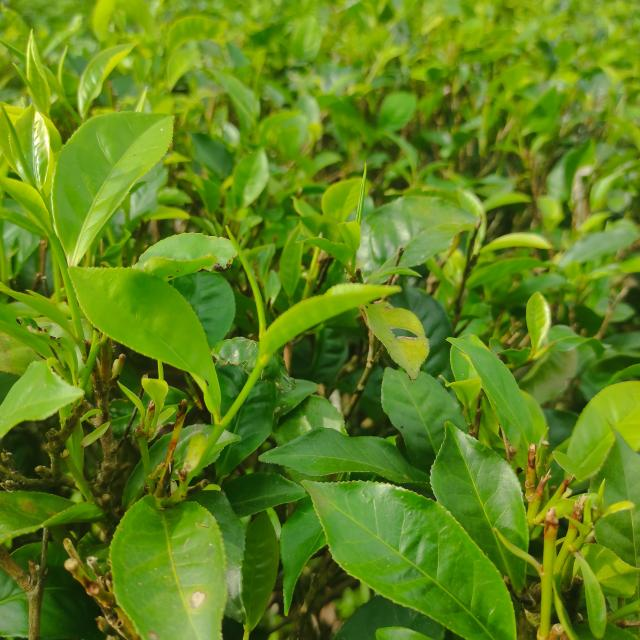unopened_leaf: (220, 218, 273, 347), (0, 99, 40, 194), (116, 375, 156, 430), (10, 58, 46, 113), (347, 159, 373, 227), (0, 34, 28, 63), (57, 40, 71, 90)
